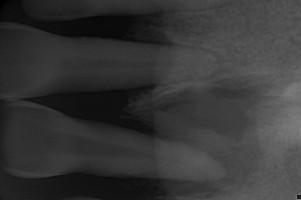Dental Caries: (154, 79, 263, 197)
